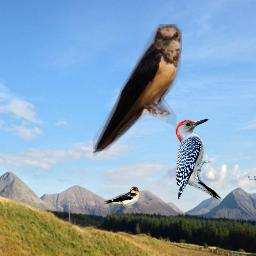Swallow: (93, 24, 182, 157), (97, 186, 139, 208)
Woodpecker: (171, 115, 226, 207)
